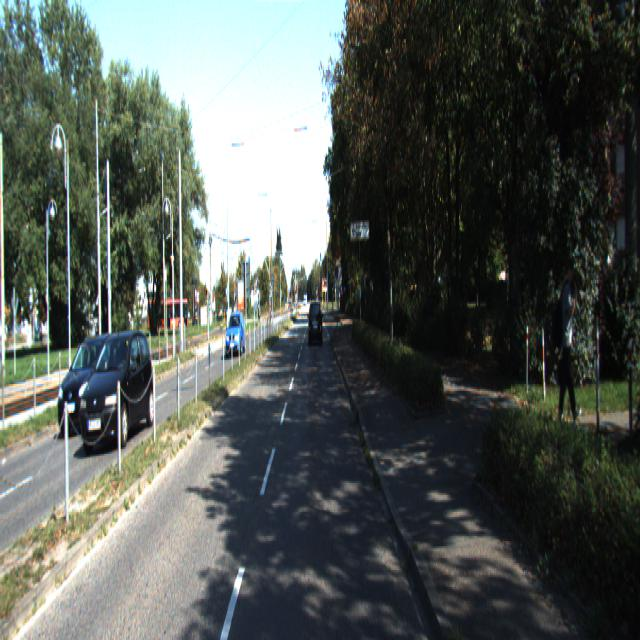Car: (81, 330, 156, 450), (58, 334, 129, 434), (226, 312, 246, 358), (309, 301, 323, 348)
